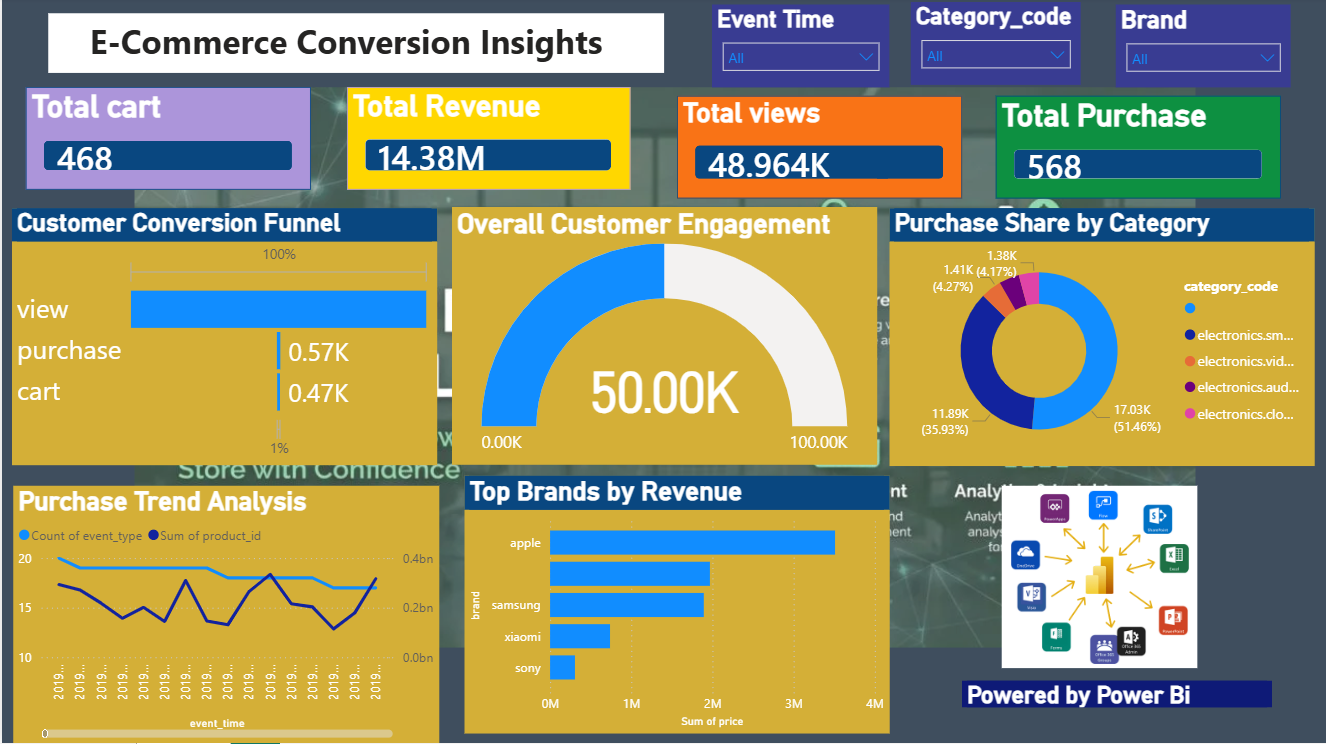

The dashboard page shown, as its layout file describes it:
{"tool":"powerbi","page":{"name":"Page 1","canvas":[1280,720],"ordinal":0},"visuals":[{"type":"slicer","title":"Category_code","fields":{"Values":["sample_ecommerce_data.category_code"]},"box":[877.1,4.8,164.1,79.6],"z":0},{"type":"slicer","title":"Event Time","fields":{"Values":["sample_ecommerce_data.event_time"]},"box":[685.3,7.2,171.3,79.6],"z":1000},{"type":"slicer","title":"Brand","fields":{"Values":["sample_ecommerce_data.brand"]},"box":[1074.9,7.2,168.9,79.6],"z":2000},{"type":"cardVisual","title":"Total views","fields":{"Data":["CountNonNull(sample_ecommerce_data.event_type)"]},"box":[651.5,95.3,275.1,98.9],"z":3000},{"type":"cardVisual","title":" Total cart    ","fields":{"Data":["CountNonNull(sample_ecommerce_data.event_type)"]},"box":[22.9,86.9,275.1,98.9],"z":4000},{"type":"cardVisual","title":"Total Purchase   ","fields":{"Data":["CountNonNull(sample_ecommerce_data.event_type)"]},"box":[959.1,95.3,275.1,98.9],"z":5000},{"type":"cardVisual","title":"Total Revenue ","fields":{"Data":["Sum(sample_ecommerce_data.price)"]},"box":[333,86.9,273.9,98.9],"z":6000},{"type":"funnel","title":"Customer Conversion Funnel","fields":{"Category":["sample_ecommerce_data.event_type"],"Y":["CountNonNull(sample_ecommerce_data.event_type)"]},"box":[9.6,204.5,410,248],"z":7000},{"type":"donutChart","title":"Purchase Share by Category","fields":{"Category":["sample_ecommerce_data.category_code"],"Y":["CountNonNull(sample_ecommerce_data.event_type)"]},"box":[856.6,203.9,410.2,248.5],"z":8000},{"type":"clusteredBarChart","title":"Top Brands by Revenue","fields":{"Category":["sample_ecommerce_data.brand"],"Y":["Sum(sample_ecommerce_data.price)"]},"box":[446.4,462.1,410.2,248.5],"z":9000},{"type":"lineChart","title":"Purchase Trend Analysis","fields":{"Category":["sample_ecommerce_data.event_time"],"Y":["CountNonNull(sample_ecommerce_data.event_type)"],"Y2":["Sum(sample_ecommerce_data.product_id)"]},"box":[10.9,471.7,411.4,248.5],"z":10000},{"type":"gauge","title":"Overall Customer Engagement","fields":{"Y":["CountNonNull(sample_ecommerce_data.event_type)"]},"box":[434.3,202.7,410.2,248.5],"z":11000},{"type":"image","box":[913.9,472,289.5,175.6],"z":12000},{"type":"textbox","title":"Powered by Power Bi","box":[926.5,659.9,299.2,25.3],"z":13000},{"type":"textbox","box":[44.6,15.7,594.8,57.9],"z":14000}]}

Visuals, with their boxes in screenshot pixels (x1, y1, x2, y2), scaled from the page's 1280x720 canvas onto the 1326x744 screenshot:
"Category_code" slicer: bbox(909, 5, 1079, 87)
"Event Time" slicer: bbox(710, 7, 887, 90)
"Brand" slicer: bbox(1114, 7, 1288, 90)
"Total views" cardVisual: bbox(675, 98, 960, 201)
" Total cart    " cardVisual: bbox(24, 90, 309, 192)
"Total Purchase   " cardVisual: bbox(994, 98, 1279, 201)
"Total Revenue " cardVisual: bbox(345, 90, 629, 192)
"Customer Conversion Funnel" funnel: bbox(10, 211, 435, 468)
"Purchase Share by Category" donutChart: bbox(887, 211, 1312, 467)
"Top Brands by Revenue" clusteredBarChart: bbox(462, 478, 887, 734)
"Purchase Trend Analysis" lineChart: bbox(11, 487, 437, 743)
"Overall Customer Engagement" gauge: bbox(450, 209, 875, 466)
image: bbox(947, 488, 1247, 669)
"Powered by Power Bi" textbox: bbox(960, 682, 1270, 708)
textbox: bbox(46, 16, 662, 76)
